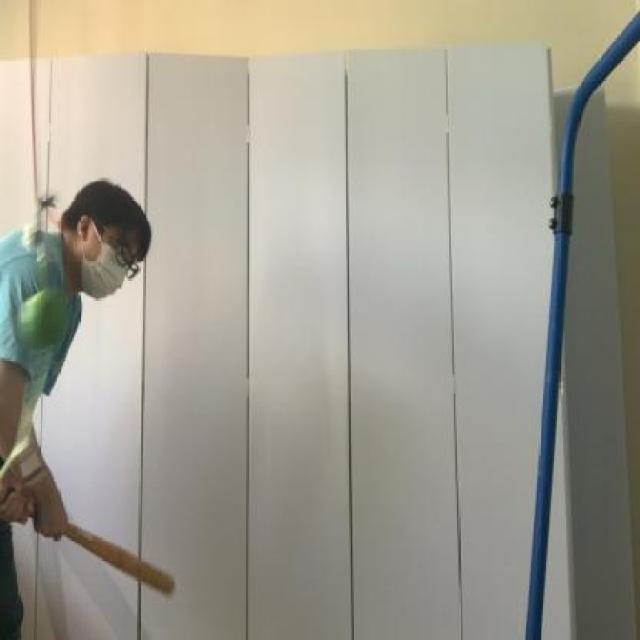baseball: (14, 282, 72, 346)
